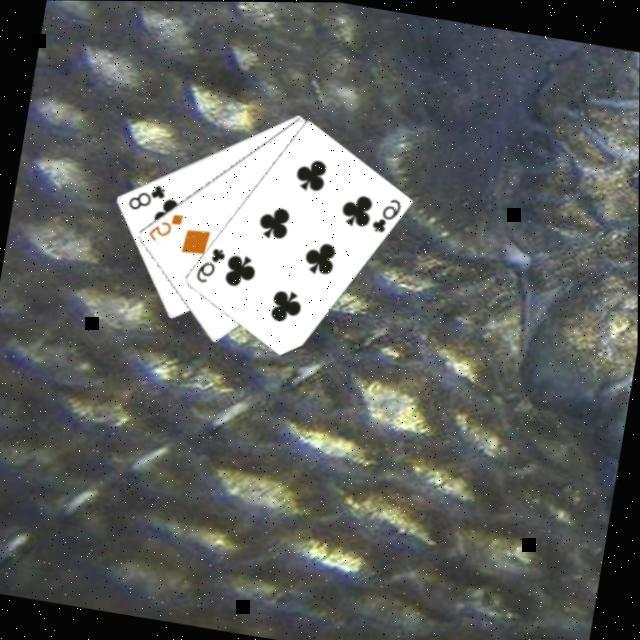5D: (143, 204, 186, 246)
6C: (191, 240, 229, 286), (368, 190, 404, 236)
8C: (124, 176, 168, 216)
